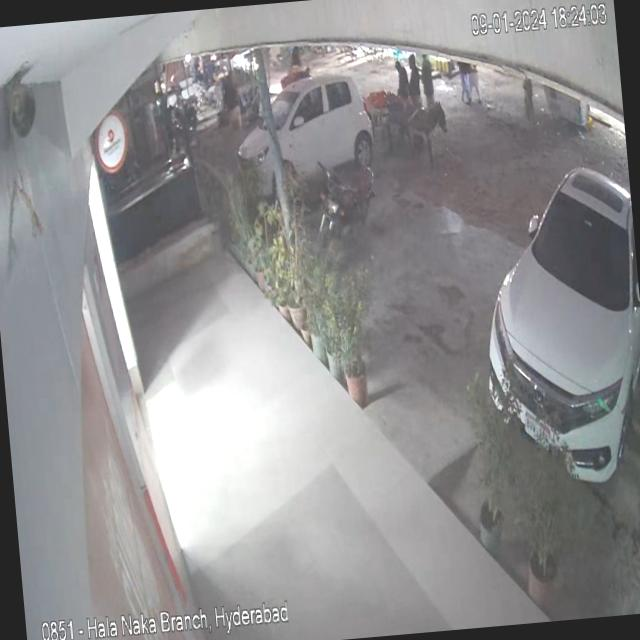Car: (464, 117, 640, 503), (210, 58, 380, 188)
Motorcycle: (310, 146, 382, 257)
